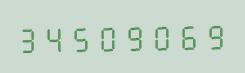five: (69, 20, 94, 53)
four: (43, 21, 68, 53)
nine: (199, 18, 224, 51), (121, 20, 146, 52)
six: (173, 19, 198, 51)
three: (17, 21, 42, 54)
zero: (95, 20, 120, 53), (147, 19, 172, 52)
